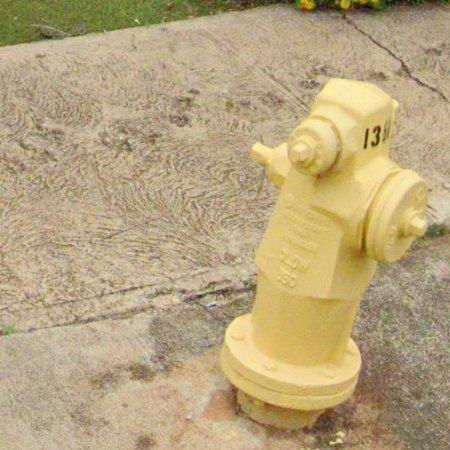a fire hydrant: (221, 80, 427, 430)
